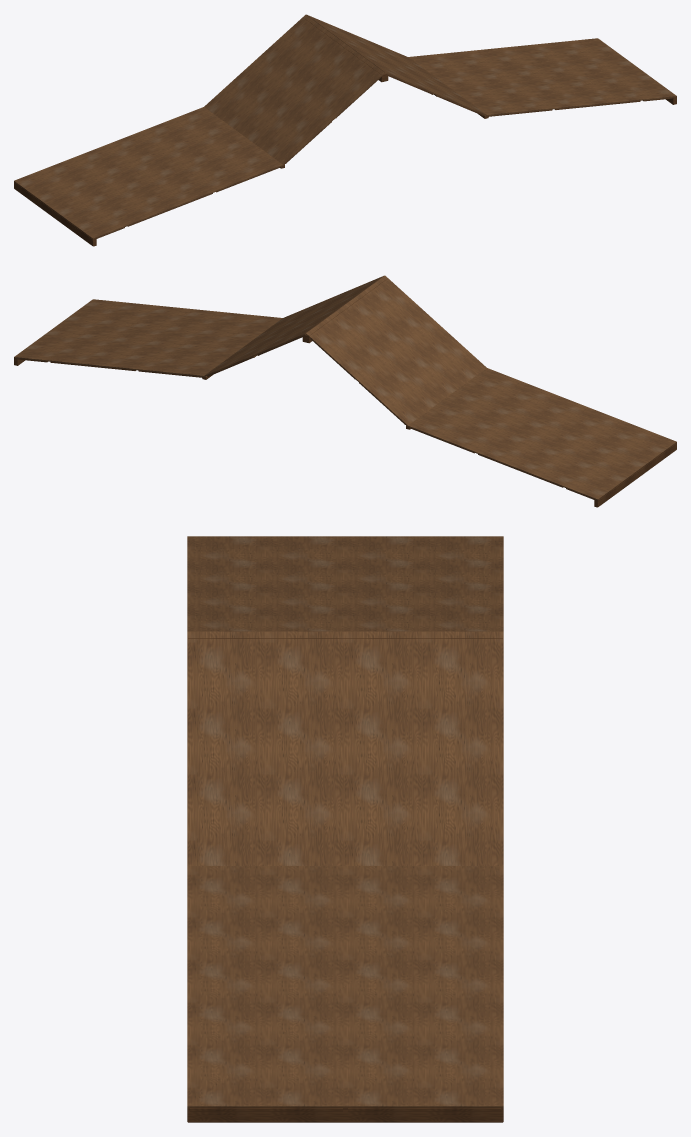
File: settlement_townhall_ceiling_bay_4p3.gltf
The picture shows the model from 3 angles, top to bottom: view 1: azimuth 30°, elevation 25°; view 2: azimuth 150°, elevation 25°; view 3: azimuth 270°, elevation 25°; orthographic projection. The views are drawn at different scales.
Visible parts, largest first — view 1: settlement_townhall_ceiling_bay_4p3_LOD0; view 2: settlement_townhall_ceiling_bay_4p3_LOD0; view 3: settlement_townhall_ceiling_bay_4p3_LOD0.
Part boxes in pixels (x1,y1,x2,y2): settlement_townhall_ceiling_bay_4p3_LOD0: (14, 14, 676, 246); settlement_townhall_ceiling_bay_4p3_LOD0: (14, 275, 676, 507); settlement_townhall_ceiling_bay_4p3_LOD0: (187, 536, 503, 1122).
Size of what is drawn, in the model's own units: 17.21 by 2.9 by 4.03.
4 materials, 4 textured.
